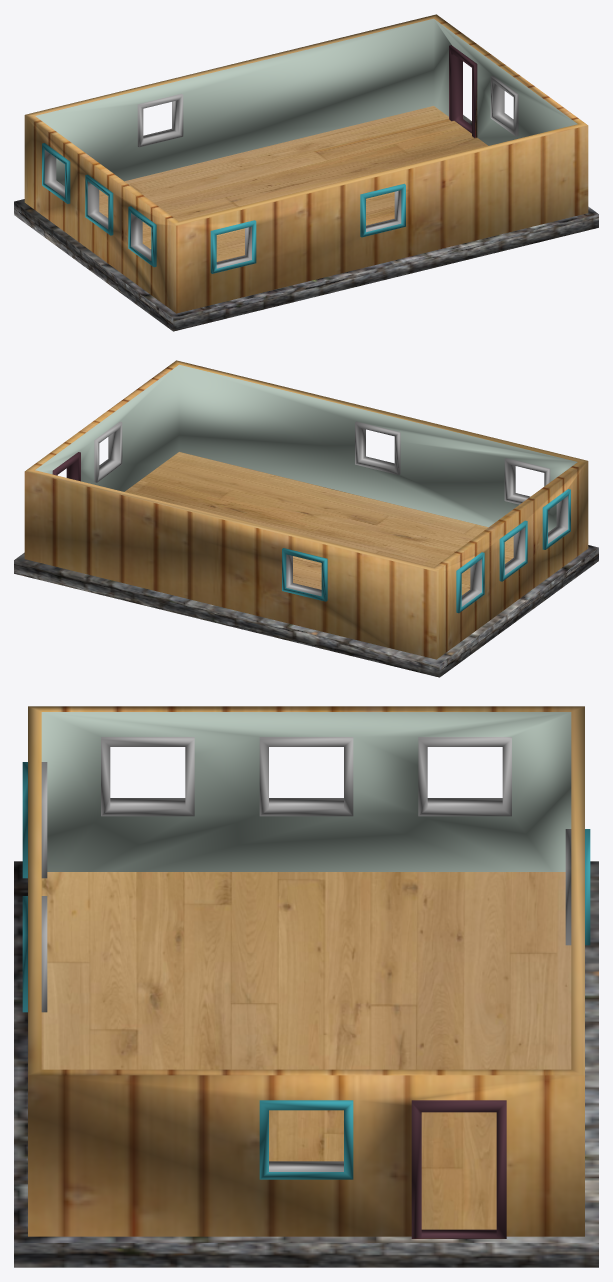
3 views of the same model, one above another, from view 1: azimuth 30°, elevation 25°; view 2: azimuth 150°, elevation 25°; view 3: azimuth 270°, elevation 25° (orthographic). The views are drawn at different scales.
Visible parts, largest first — view 1: 0frontwall_Cube.009, 0floor_Plane.006, 0base_Cube.006; view 2: 0frontwall_Cube.009, 0floor_Plane.006, 0base_Cube.006; view 3: 0frontwall_Cube.009, 0floor_Plane.006, 0base_Cube.006.
Boxes of the visible parts, x1,y1,x2,y2 form: 0frontwall_Cube.009: (24, 14, 588, 313); 0floor_Plane.006: (99, 106, 488, 261); 0base_Cube.006: (14, 115, 598, 331); 0frontwall_Cube.009: (24, 360, 588, 659); 0floor_Plane.006: (124, 452, 513, 595); 0base_Cube.006: (14, 545, 598, 677); 0frontwall_Cube.009: (22, 706, 590, 1238); 0floor_Plane.006: (41, 872, 571, 1229); 0base_Cube.006: (14, 861, 598, 1267).
Bounding box in the file's own units: 11.39 × 2.59 × 7.38.
